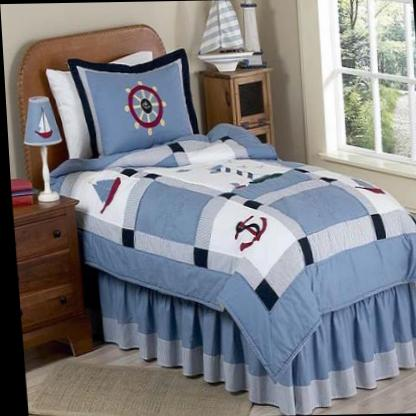Bed: (18, 26, 416, 415)
Nightstand: (10, 197, 89, 365)
